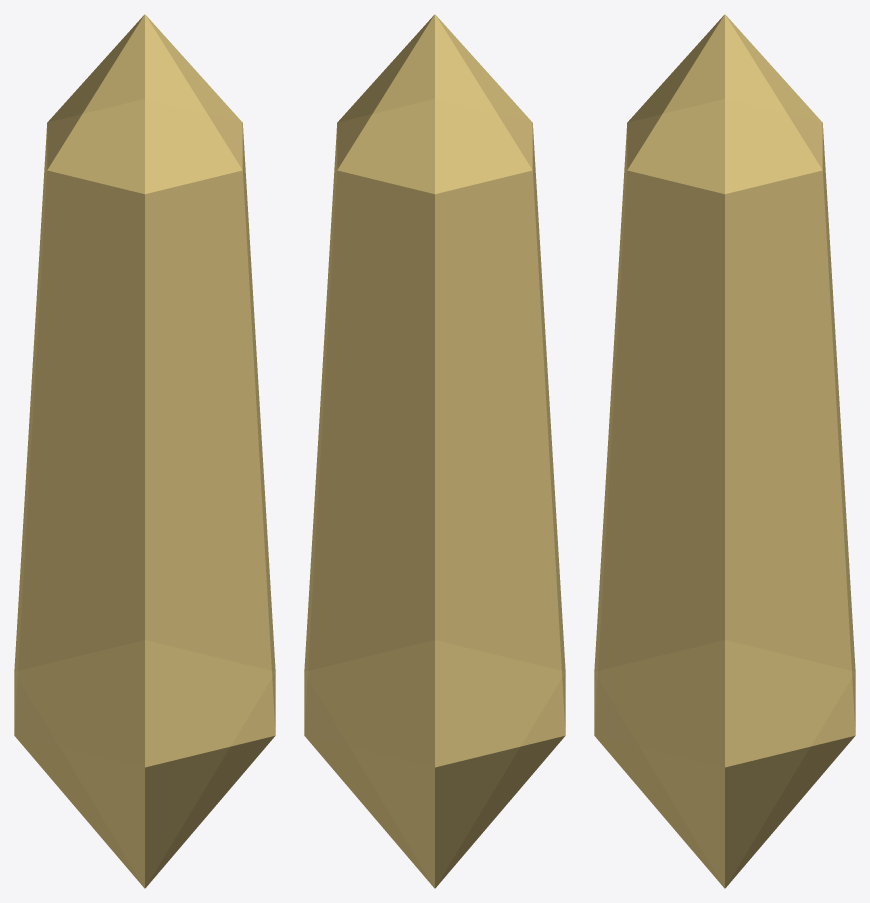
File: cristal_s3.fbx
The picture shows the model from 3 angles, left to right: view 1: azimuth 30°, elevation 25°; view 2: azimuth 150°, elevation 25°; view 3: azimuth 270°, elevation 25°; orthographic projection.
Visible parts, largest first — view 1: pCylinder1; view 2: pCylinder1; view 3: pCylinder1.
Boxes of the visible parts, left/top/right/bottom form: pCylinder1: left=14, top=14, right=275, bottom=888; pCylinder1: left=304, top=14, right=565, bottom=888; pCylinder1: left=594, top=14, right=855, bottom=888.
Size of the model in its own units: 26.94 by 86.19 by 23.33.
